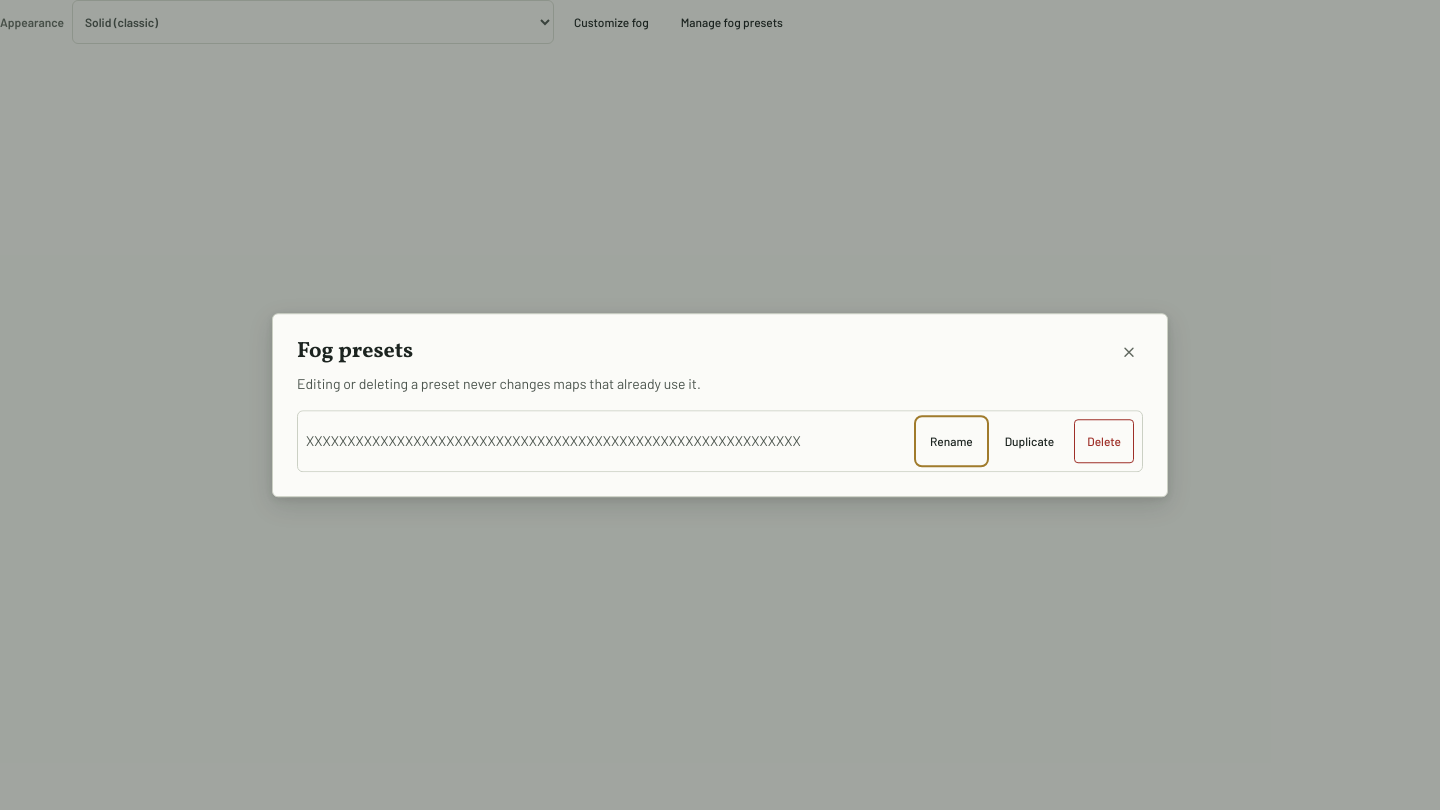
Test: FogPresetManager › surfaces a duplicate error as an alert under the list
Click the button "Duplicate" at (1030, 441), box left=993, top=419, right=1066, bottom=463
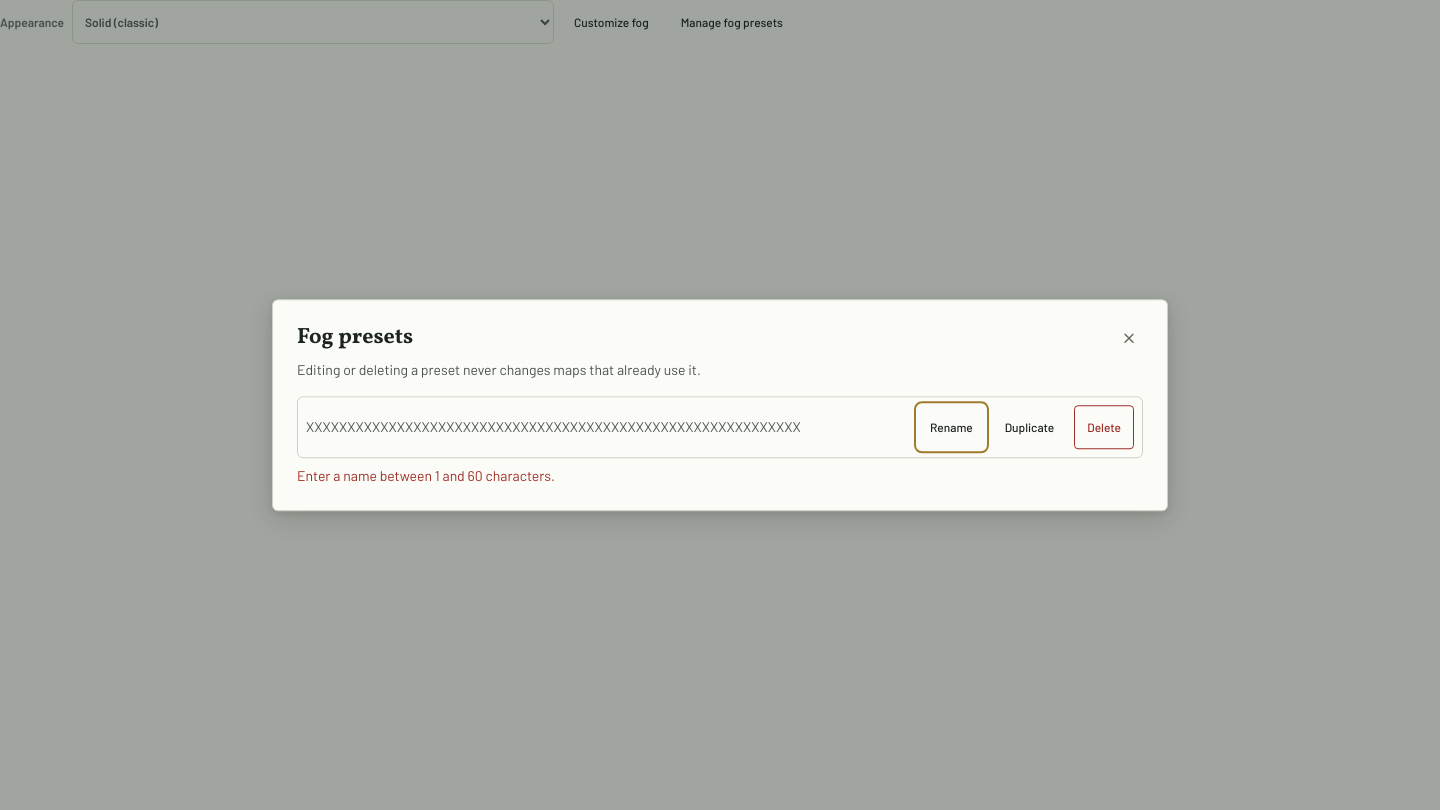
Check: the message reads "Enter a name between 1 and 60 characters.", box left=297, top=467, right=555, bottom=484
